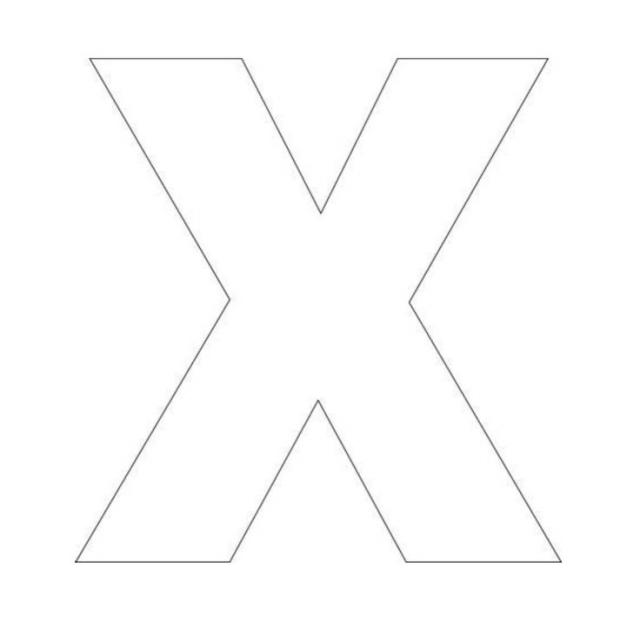X: (46, 22, 593, 589)
